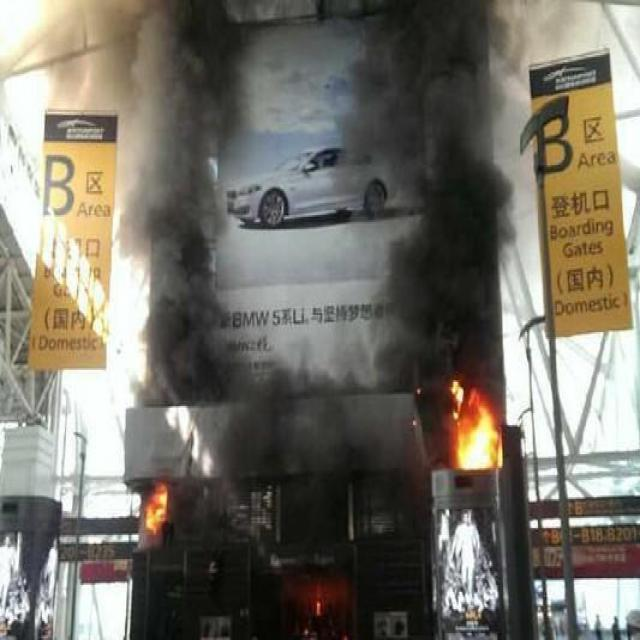fire: (448, 379, 503, 466), (142, 478, 168, 528), (314, 592, 324, 612)
smoke: (315, 0, 565, 398), (58, 0, 246, 407)
